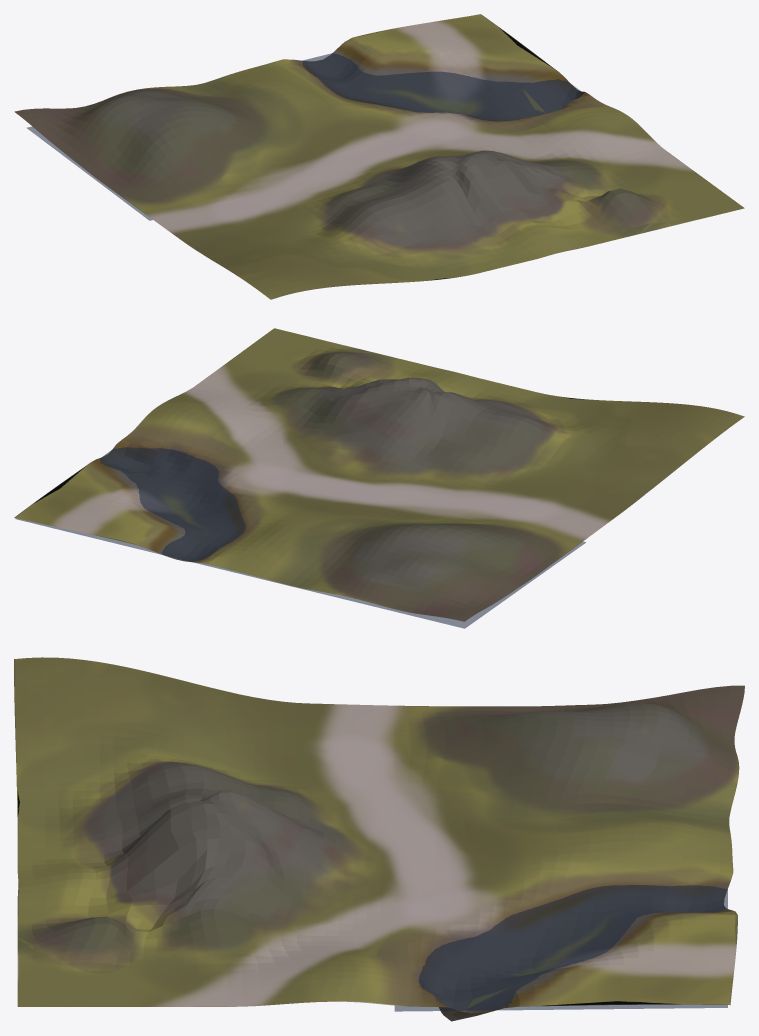
File: ground.glb
3 views of the same model, one above another, from view 1: azimuth 30°, elevation 25°; view 2: azimuth 150°, elevation 25°; view 3: azimuth 270°, elevation 25° (orthographic). The views are drawn at different scales.
Visible parts, largest first — view 1: maa, woda; view 2: maa, woda; view 3: maa, woda.
Boxes of the visible parts, x1,y1,x2,y2 form: maa: (14, 14, 744, 299); woda: (27, 53, 581, 220); maa: (14, 328, 744, 621); woda: (15, 447, 585, 628); maa: (14, 657, 744, 1021); woda: (394, 885, 727, 1011).
Size of the model in its own units: 52.46 by 7.39 by 51.39.
Materials: 2 (1 with a texture image).
